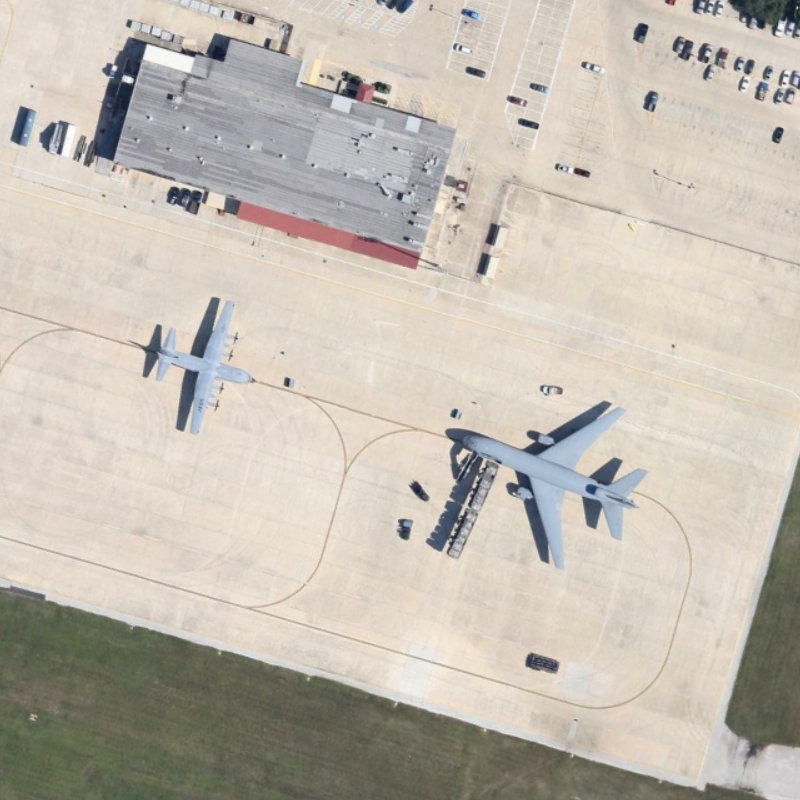A18: (444, 399, 649, 576)
A2: (139, 293, 260, 438)
